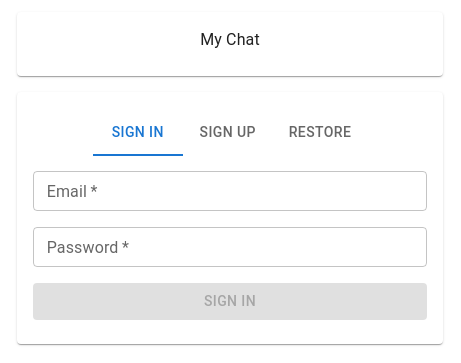
Scenario: RestoreForm › Submit button is disabled
Click the tab with test id "tab_btn-3" at (320, 132), box [273,108,367,156]
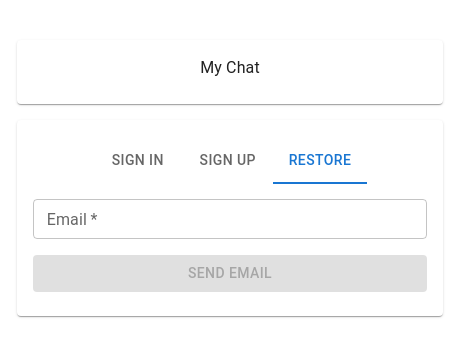
Expected: the button with test id "submit-btn" is disabled, [33,255,427,292]
Now the form with test id "restore-form" is shown, box [33,199,427,292]
